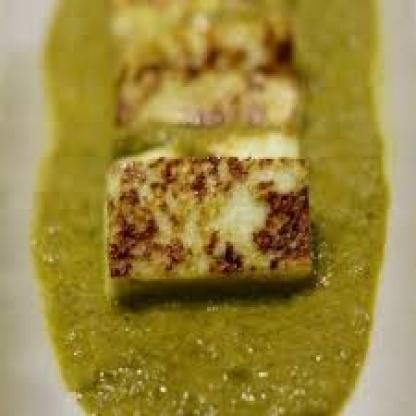palak_paneer: (30, 0, 391, 416)
